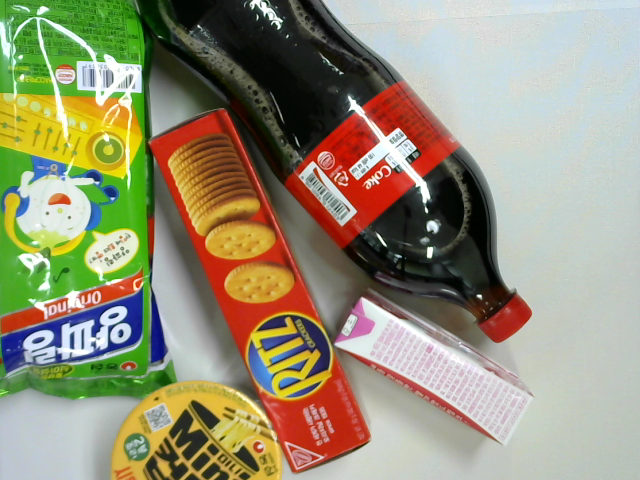Coca_Cola_1.5L: (129, 1, 539, 352)
Hejangmini: (108, 378, 287, 480)
Oninon_Ring: (1, 4, 187, 414)
Ritz_Cracker: (143, 101, 375, 472)
Strawberry_E_Mong: (330, 287, 534, 450)
